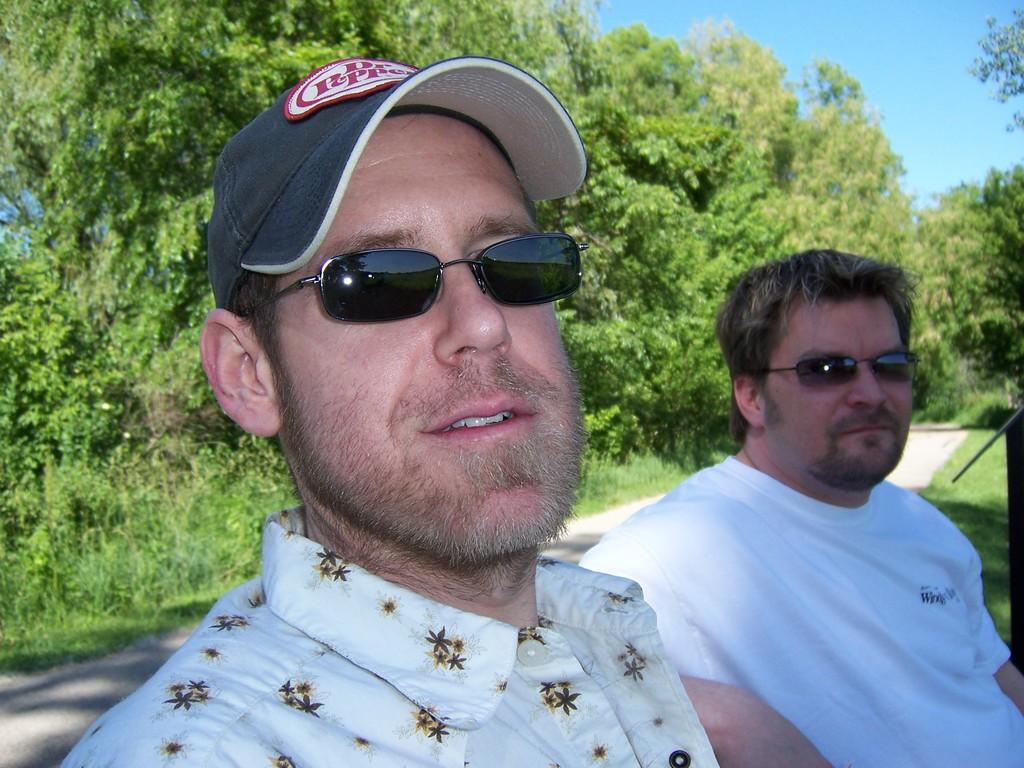Hat: (204, 54, 591, 312)
